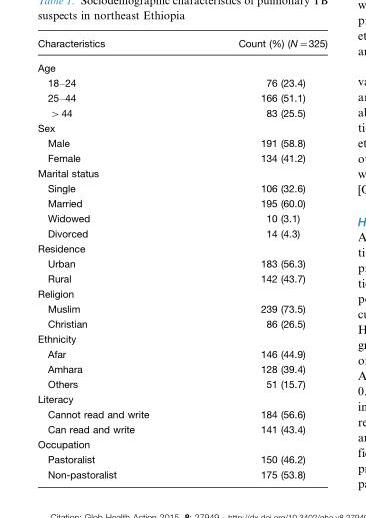table: (36, 36, 326, 479)
table column: (36, 36, 193, 479), (193, 36, 326, 479)
table column header: (36, 36, 326, 55)
table projected row header: (36, 55, 326, 74), (36, 165, 326, 180), (36, 241, 326, 256), (36, 286, 326, 301), (36, 331, 326, 346), (36, 391, 326, 406), (36, 436, 326, 451), (36, 121, 326, 135)
table row: (36, 36, 326, 55), (36, 55, 326, 74), (36, 89, 326, 105), (36, 105, 326, 121), (36, 225, 326, 241), (36, 74, 326, 89), (36, 135, 326, 150), (36, 150, 326, 165), (36, 165, 326, 180), (36, 180, 326, 195), (36, 195, 326, 210), (36, 210, 326, 225), (36, 241, 326, 256), (36, 256, 326, 271), (36, 271, 326, 286), (36, 286, 326, 301), (36, 301, 326, 316), (36, 316, 326, 331), (36, 331, 326, 346), (36, 346, 326, 361), (36, 361, 326, 376), (36, 376, 326, 391), (36, 391, 326, 406), (36, 406, 326, 421), (36, 421, 326, 436), (36, 436, 326, 451), (36, 451, 326, 466), (36, 121, 326, 135), (36, 466, 326, 479)
